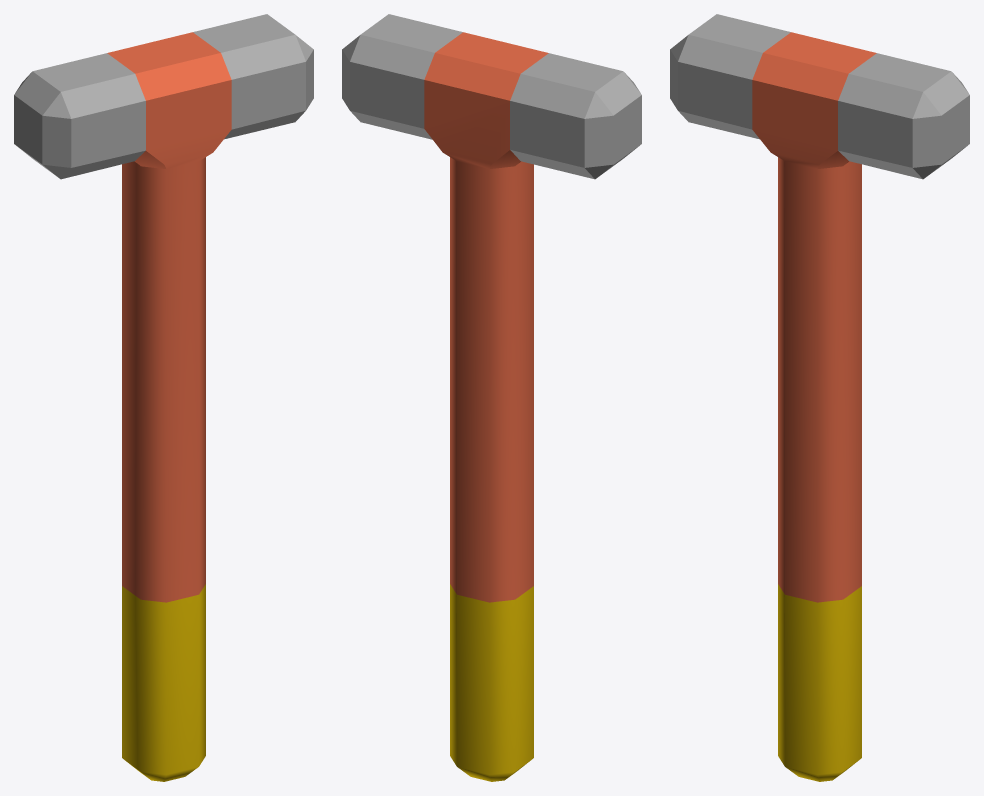
The model's file is hammer.fbx.
3 renders of one model, left to right at view 1: azimuth 30°, elevation 25°; view 2: azimuth 150°, elevation 25°; view 3: azimuth 330°, elevation 25°, orthographic.
Visible parts, largest first — view 1: hammer; view 2: hammer; view 3: hammer.
Boxes of the visible parts, bbox=[...] form: hammer: bbox=[14, 14, 313, 781]; hammer: bbox=[342, 14, 641, 781]; hammer: bbox=[670, 14, 969, 781].
Size of the model in its own units: 53.84 by 136 by 17.01.
